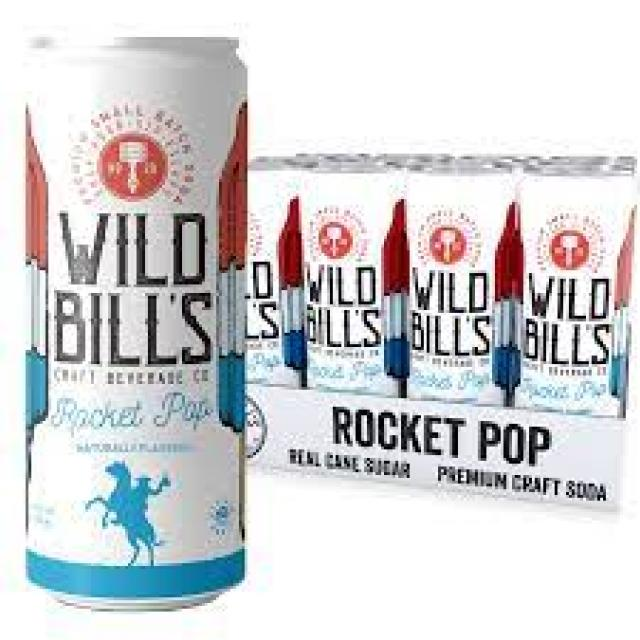Cans: (12, 22, 254, 612)
